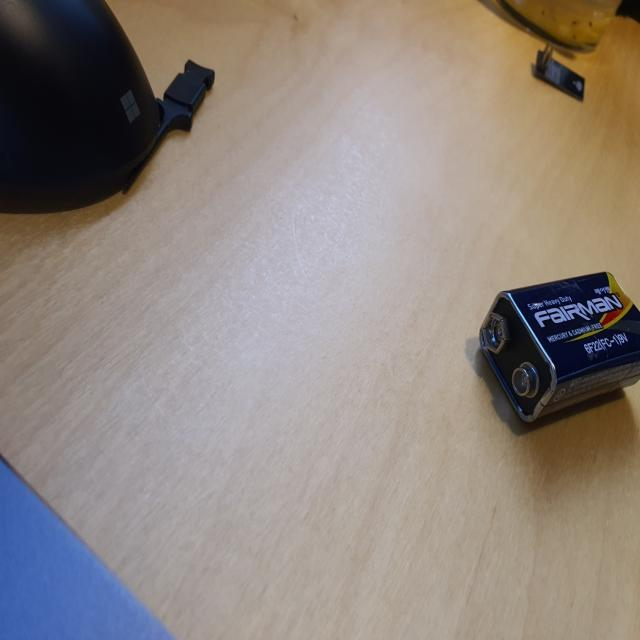battery-etc-etc: (473, 267, 640, 431)
